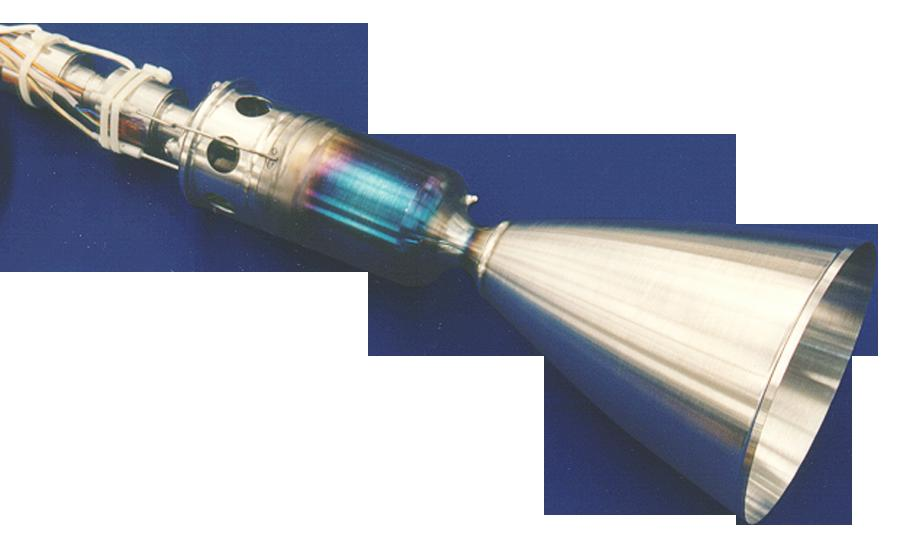thruster: (460, 215, 878, 527)
